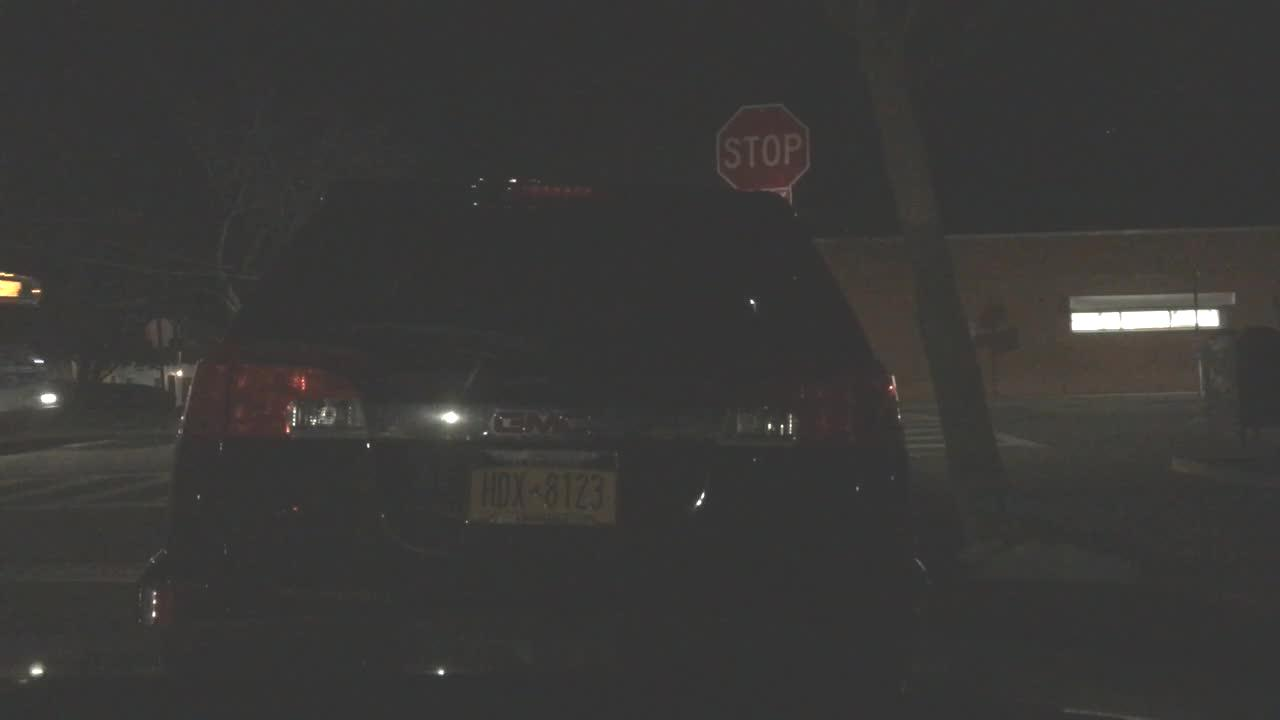GMC: (473, 392, 609, 448)
